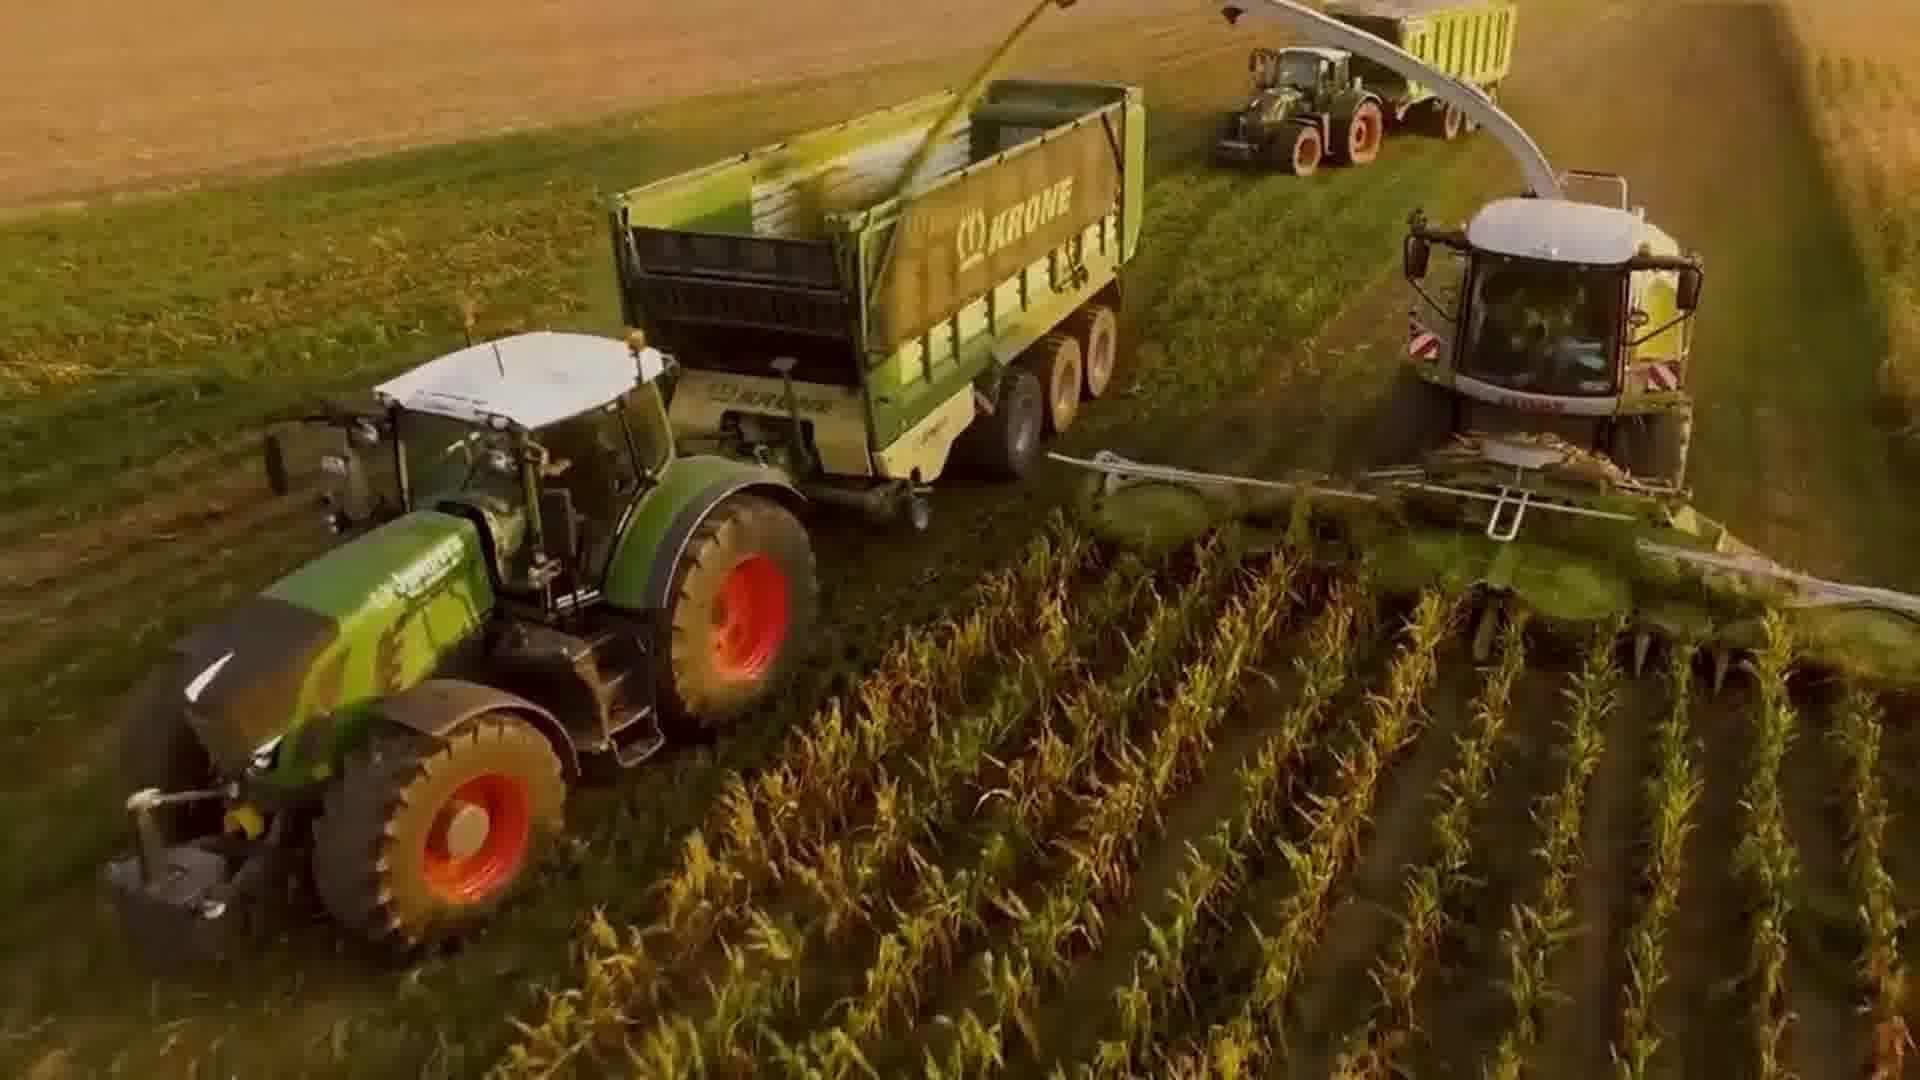combine harvester: (1048, 0, 1920, 702)
tractor: (86, 311, 823, 961), (1203, 38, 1389, 187)
trailer: (612, 66, 1151, 538), (1275, 0, 1527, 138)
